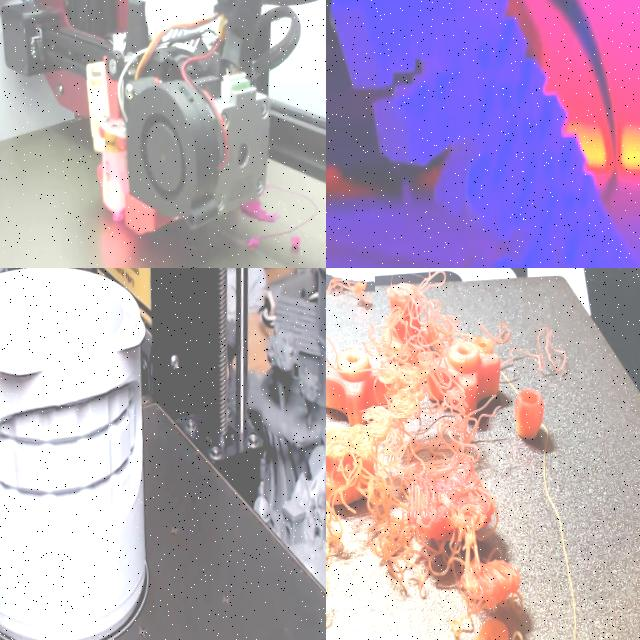spaghetti: (341, 324, 448, 613), (436, 300, 504, 460), (511, 316, 580, 380), (390, 268, 458, 314), (326, 268, 376, 313), (326, 489, 345, 571), (240, 200, 277, 221), (326, 583, 335, 624), (247, 236, 260, 250), (291, 237, 299, 251)
